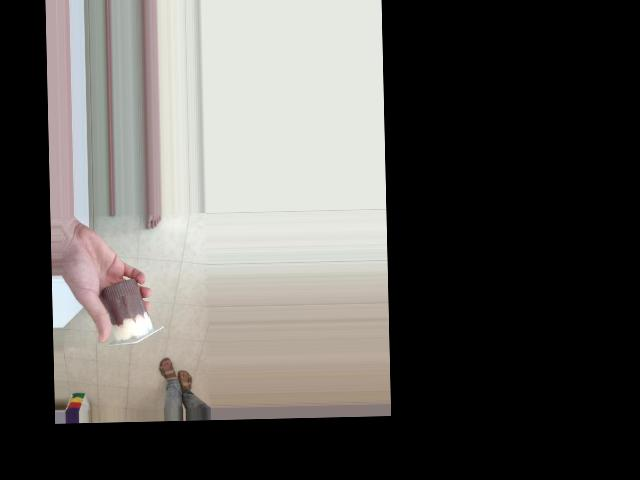milky: (98, 271, 159, 348)
